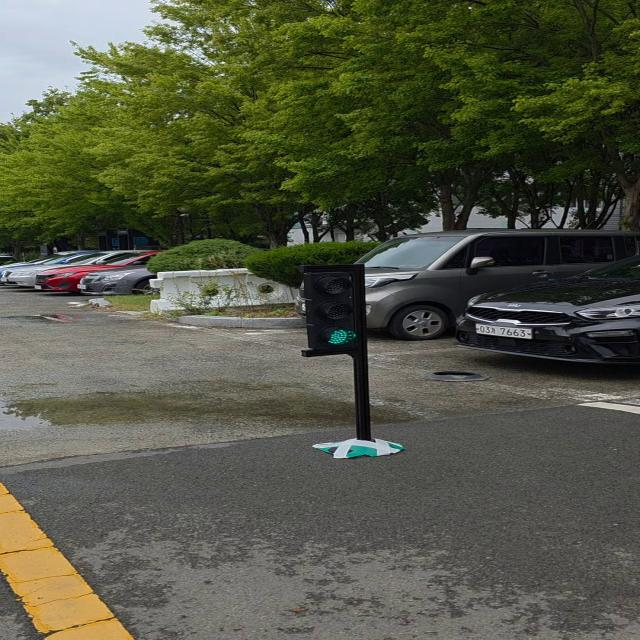green: (303, 264, 377, 358)
